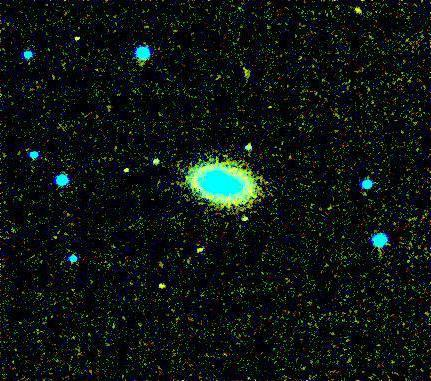star: (344, 0, 374, 25)
